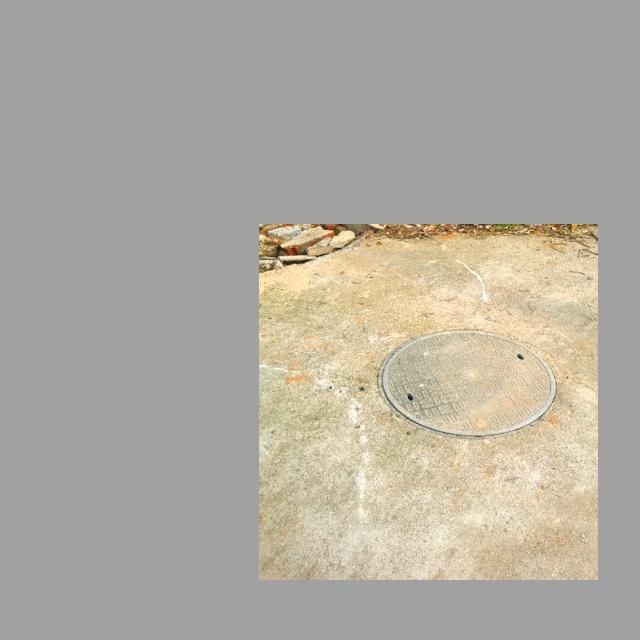good: (377, 330, 557, 438)
